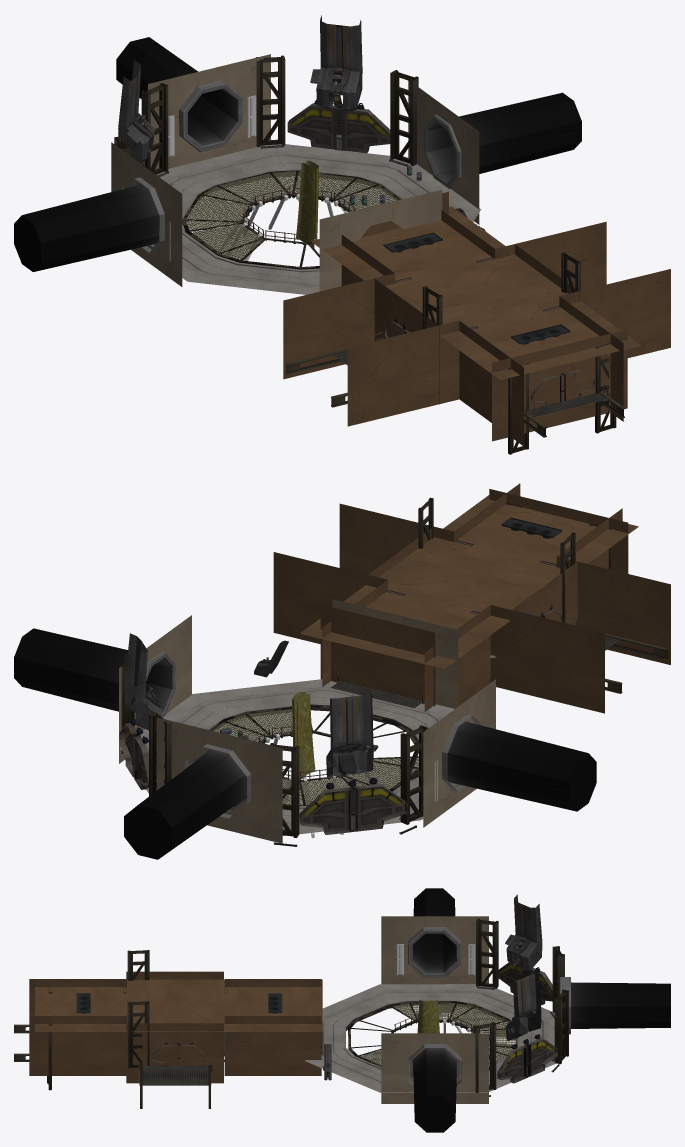
The model's file is env_tar_sewers_01_pre.glb.
The picture shows the model from 3 angles, top to bottom: view 1: azimuth 30°, elevation 25°; view 2: azimuth 150°, elevation 25°; view 3: azimuth 270°, elevation 25°; orthographic projection. The views are drawn at different scales.
Parts seen in each view (by area): view 1: tar_hallway_walls_cluster_mesh, tar_walkway_02_mesh, tar_sewer_01_mesh (2), tar_sewer_01_mesh, tar_sewer_01_mesh (1), tar_sewer_wall_01_mesh (4), tar_sewer_wall_01_mesh (3), mus_pillar_05_mesh (1), tar_sewer_wall_01_mesh (5), tar_door_01_mesh, tar_sewer_wall_01_mesh, tar_walkway_01a_mesh (+13 smaller); view 2: tar_hallway_walls_cluster_mesh, tar_sewer_01_mesh (2), tar_sewer_01_mesh (1), tar_sewer_01_mesh, tar_walkway_02_mesh, tar_sewer_wall_01_mesh (4), tar_door_01_mesh (1), tar_sewer_wall_01_mesh (5), mus_pillar_05_mesh, tar_sewer_wall_01_mesh (3), tar_sewer_wall_01_mesh, mus_pillar_05_mesh (1) (+13 smaller); view 3: tar_hallway_walls_cluster_mesh, tar_walkway_02_mesh, tar_sewer_wall_01_mesh, tar_sewer_01_mesh (1), tar_sewer_wall_01_mesh (5), tar_sewer_01_mesh, tar_sewer_01_mesh (2), mus_pillar_05_mesh, mus_pillar_05_mesh (1), tar_door_01_mesh, tar_hallway_floor_cluster_mesh, end_pillar_02_mesh (1) (+11 smaller).
Boxes of the visible parts, box(x1,y1,x2,y2) form: tar_hallway_walls_cluster_mesh: box(283, 191, 670, 446); tar_walkway_02_mesh: box(156, 144, 480, 294); tar_sewer_01_mesh (2): box(14, 177, 164, 271); tar_sewer_01_mesh: box(424, 92, 581, 188); tar_sewer_01_mesh (1): box(116, 37, 242, 151); tar_sewer_wall_01_mesh (4): box(148, 54, 270, 169); tar_sewer_wall_01_mesh (3): box(319, 189, 442, 291); mus_pillar_05_mesh (1): box(310, 15, 362, 111); tar_sewer_wall_01_mesh (5): box(111, 142, 182, 286); tar_door_01_mesh: box(287, 103, 390, 153); tar_sewer_wall_01_mesh: box(408, 80, 479, 224); tar_walkway_01a_mesh: box(182, 170, 401, 269); tar_hallway_walls_cluster_mesh: box(273, 483, 670, 713); tar_sewer_01_mesh (2): box(442, 714, 596, 811); tar_sewer_01_mesh (1): box(124, 744, 250, 859); tar_sewer_01_mesh: box(14, 628, 175, 717); tar_walkway_02_mesh: box(119, 679, 454, 835); tar_sewer_wall_01_mesh (4): box(156, 717, 282, 843); tar_door_01_mesh (1): box(299, 784, 407, 834); tar_sewer_wall_01_mesh (5): box(423, 679, 495, 827); mus_pillar_05_mesh: box(326, 693, 378, 776); tar_sewer_wall_01_mesh (3): box(332, 599, 458, 708); tar_sewer_wall_01_mesh: box(119, 615, 191, 763); mus_pillar_05_mesh (1): box(124, 633, 161, 730); tar_hallway_walls_cluster_mesh: box(29, 971, 322, 1083); tar_walkway_02_mesh: box(305, 984, 562, 1092); tar_sewer_wall_01_mesh: box(381, 1033, 488, 1103); tar_sewer_01_mesh (1): box(559, 977, 670, 1034); tar_sewer_wall_01_mesh (5): box(381, 916, 488, 984); tar_sewer_01_mesh: box(408, 1044, 461, 1132); tar_sewer_01_mesh (2): box(408, 888, 460, 977); mus_pillar_05_mesh: box(505, 894, 542, 970); mus_pillar_05_mesh (1): box(505, 972, 541, 1040); tar_door_01_mesh: box(497, 1038, 557, 1083); tar_hallway_floor_cluster_mesh: box(139, 1032, 322, 1085); end_pillar_02_mesh (1): box(476, 918, 498, 988).
Size of the model in its own units: 87.5 by 27.2 by 121.
Materials: 20 (20 with a texture image).
